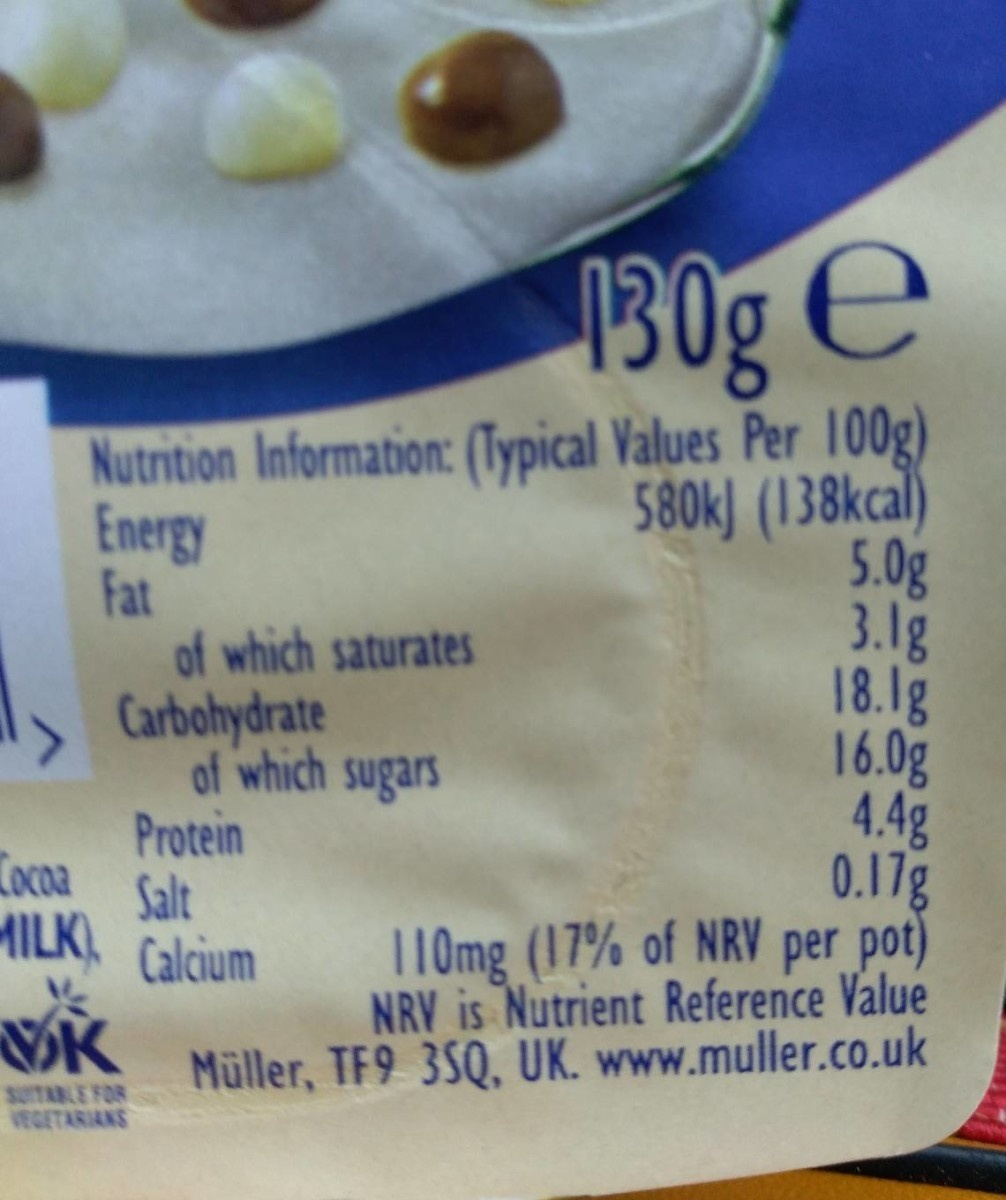column: (95, 501, 475, 924), (633, 469, 928, 913)
table: (85, 402, 935, 984)
